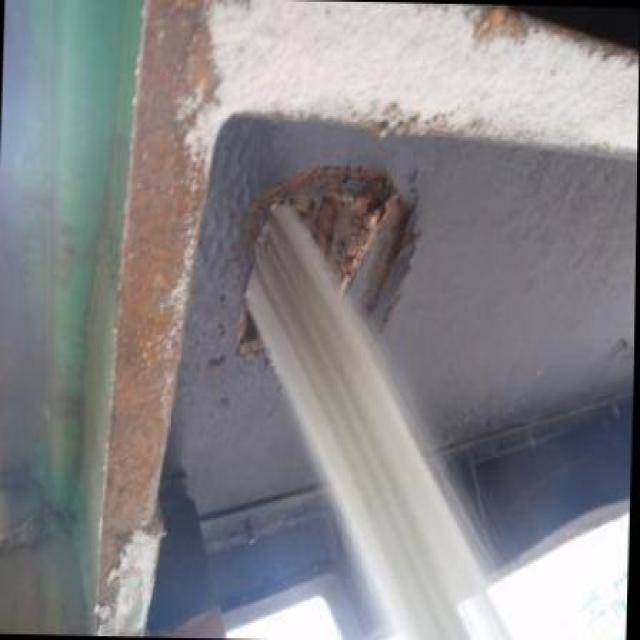hole: (230, 163, 423, 363)
